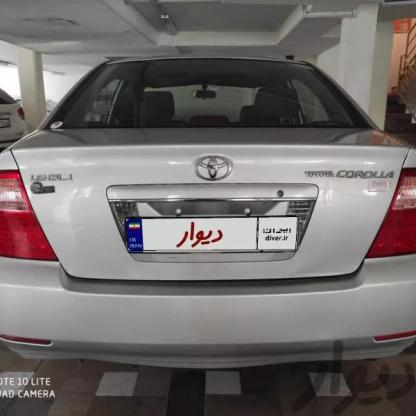Car: (0, 48, 416, 376)
